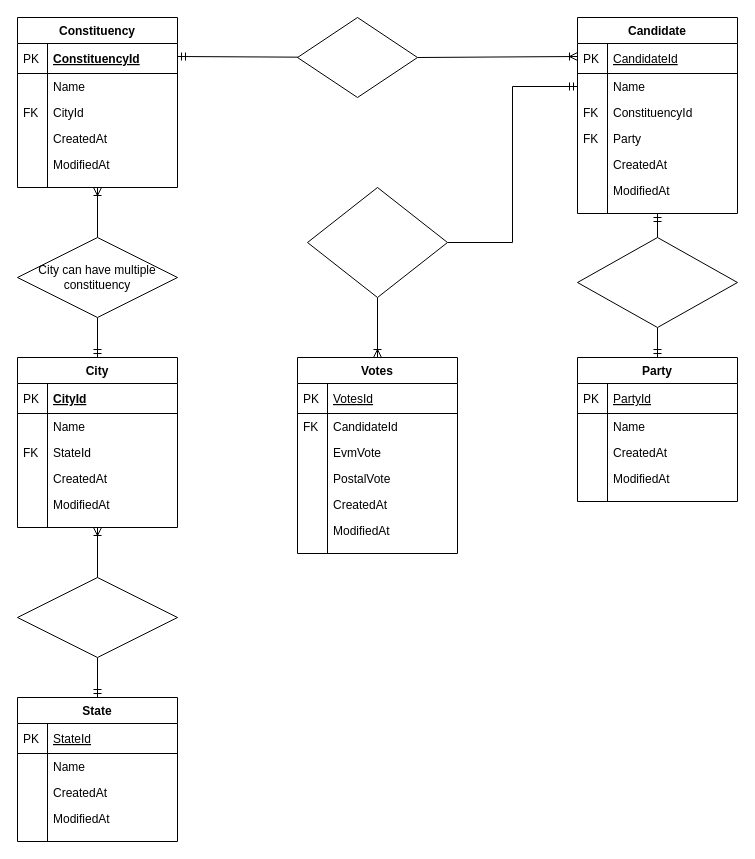
Image size: 755x859. Some labels were removed from this diagram. Here are the shapes that lost their labels. From the top down, the box of each, then its label:
(296, 16, 418, 98): can Have multiple candidate
(306, 186, 448, 298): Candidate can have multiple Votes
(576, 236, 738, 328): Candidate Belong to party
(16, 576, 178, 658): State can have multiple cities
